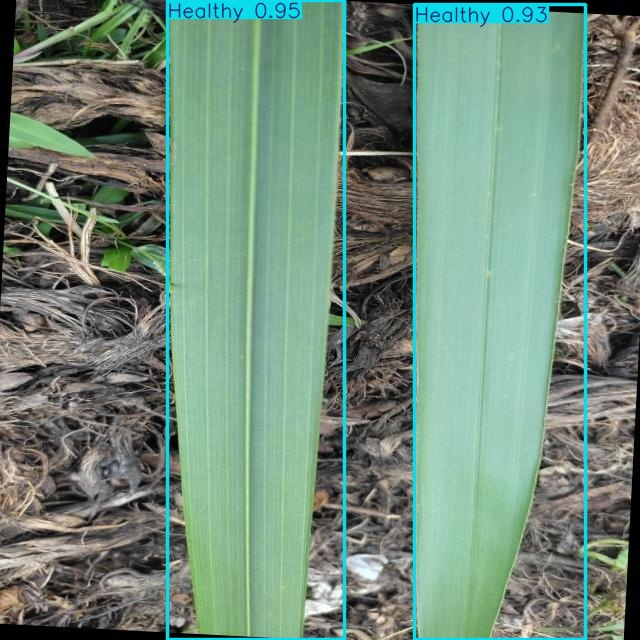Healthy: (168, 0, 344, 639), (415, 5, 585, 639)
